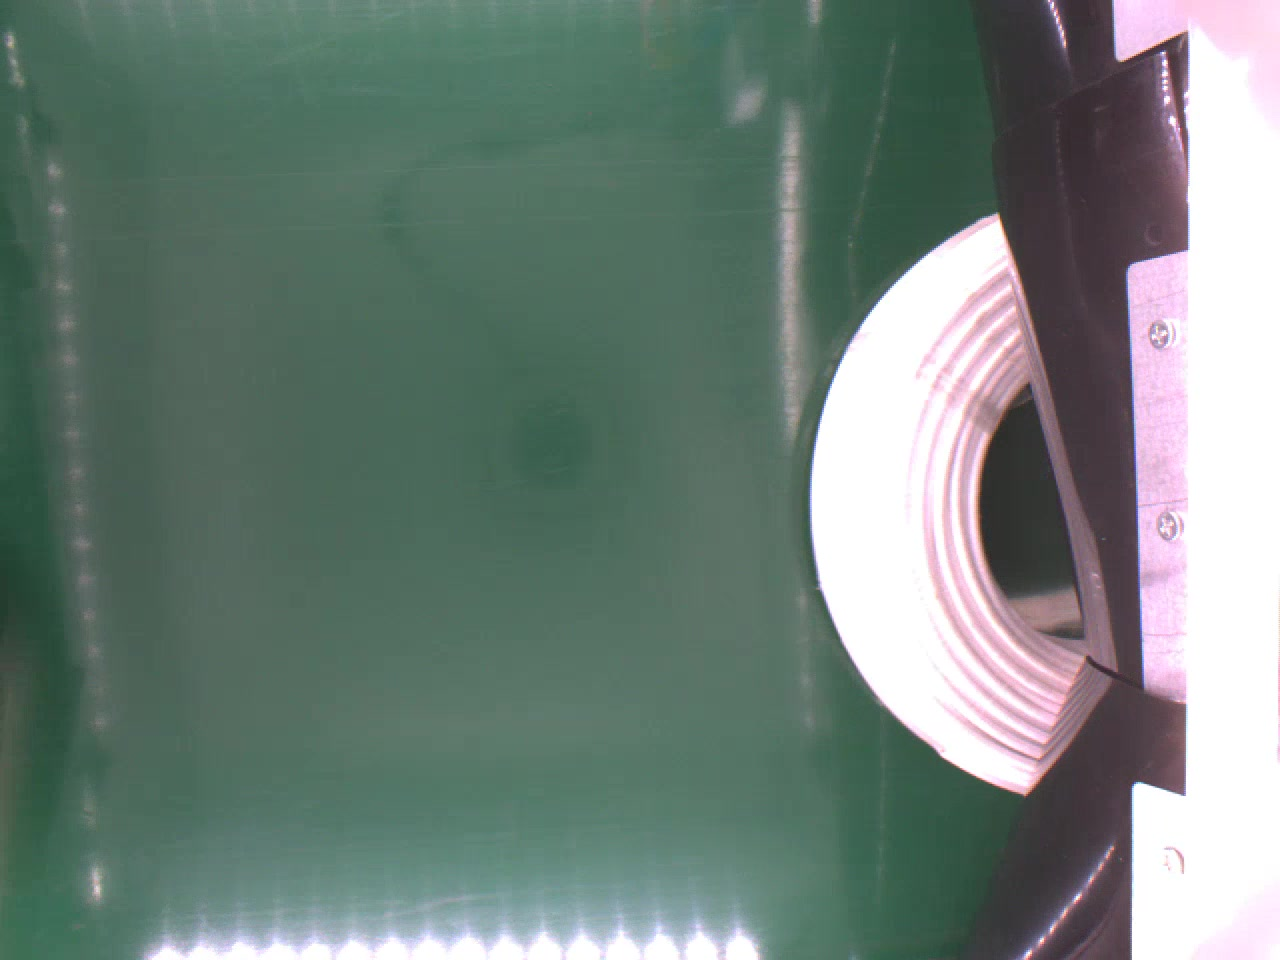white: (802, 206, 1087, 792)
